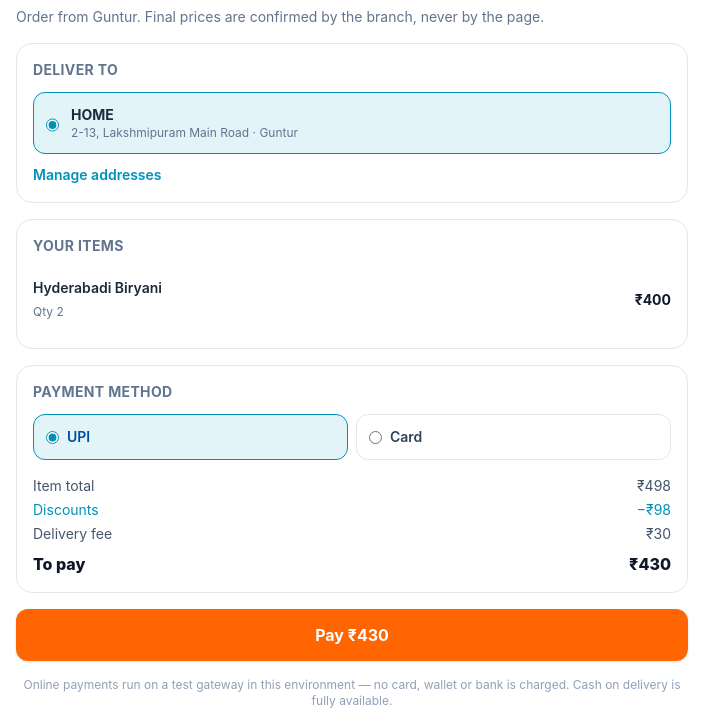
Test: checkout flow › surfaces a failed simulated payment without placing an order
Click the button "Pay ₹430" at x=352, y=635, box top-left (16, 609), bottom-right (688, 661)
(page scrolled)
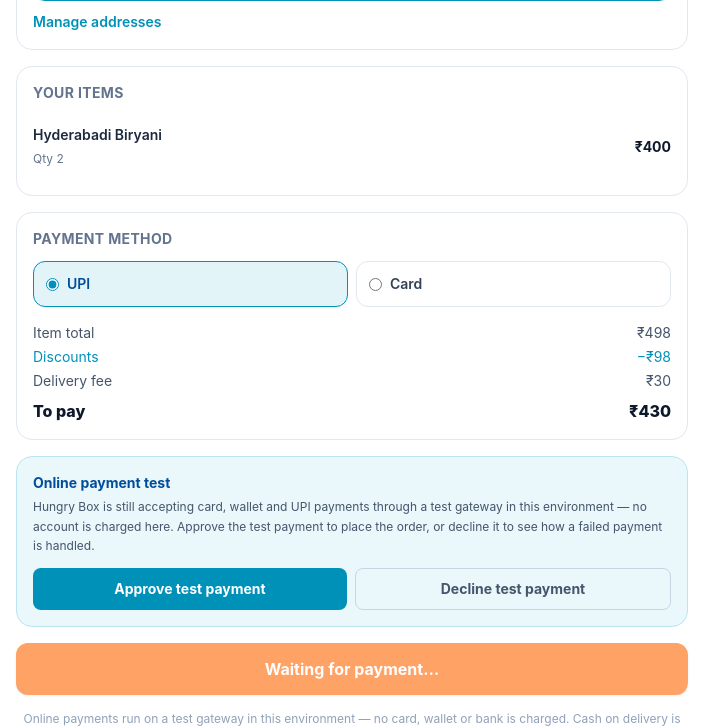
Click the button "Approve test payment" at x=190, y=588, box top-left (33, 568), bottom-right (347, 610)
(page scrolled)
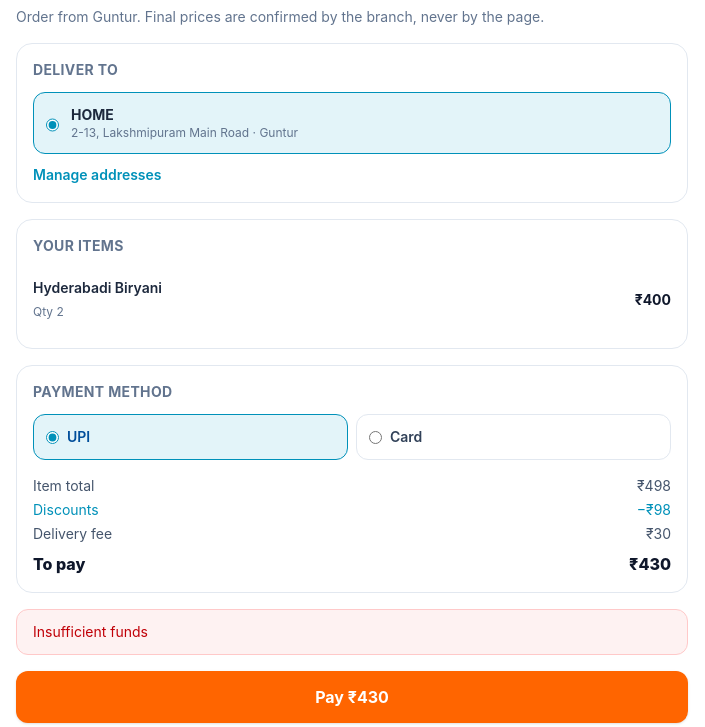
Expected: the text "Insufficient funds" is shown, top-left (16, 609), bottom-right (688, 655)
